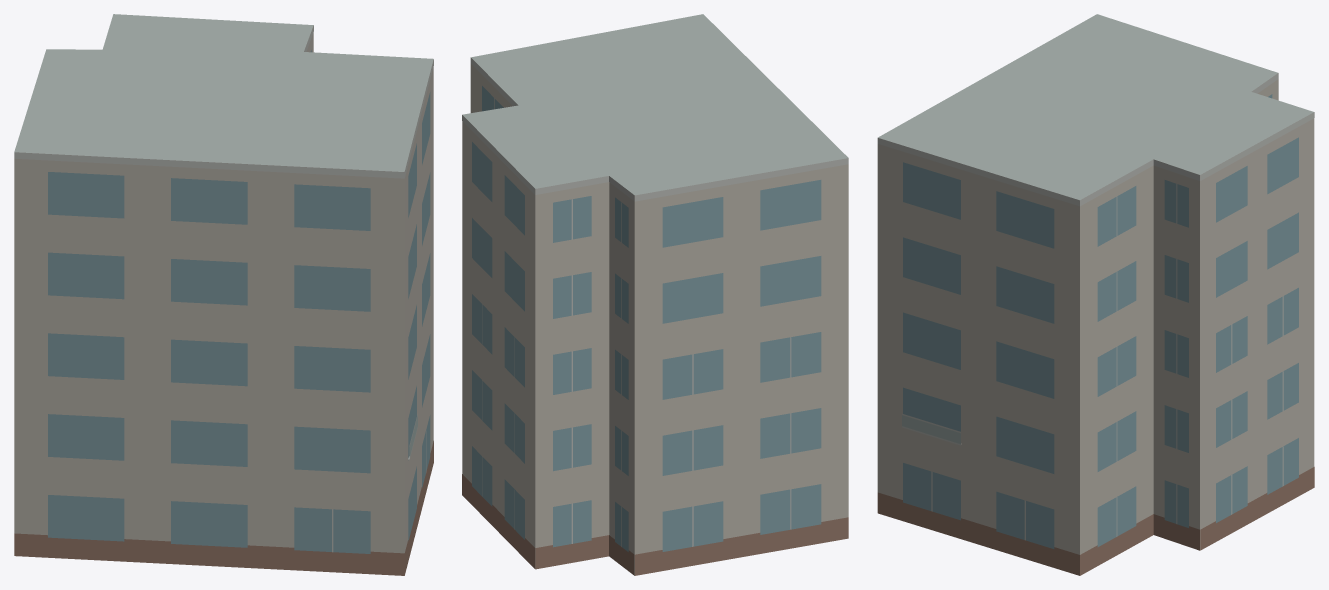
The model's file is survey-upis-32950161.glb.
The picture shows the model from 3 angles, left to right: view 1: azimuth 30°, elevation 25°; view 2: azimuth 150°, elevation 25°; view 3: azimuth 270°, elevation 25°; orthographic projection. The views are drawn at different scales.
Parts seen in each view (by area): view 1: survey-upis-32950161.tmp; view 2: survey-upis-32950161.tmp; view 3: survey-upis-32950161.tmp.
Boxes of the visible parts, bbox=[...] form: survey-upis-32950161.tmp: bbox=[14, 14, 433, 575]; survey-upis-32950161.tmp: bbox=[462, 14, 848, 575]; survey-upis-32950161.tmp: bbox=[877, 14, 1314, 575].
Bounding box in the file's own units: 15.96 × 15 × 15.82.
